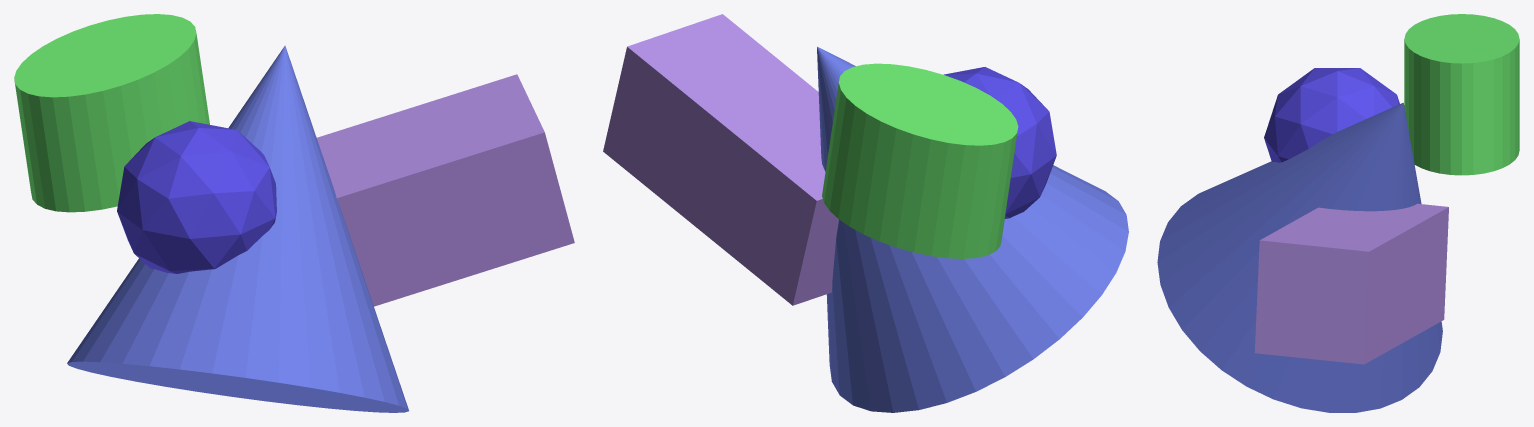
File: gradient-shapes.glb
3 views of the same model, side by side, from view 1: azimuth 30°, elevation 25°; view 2: azimuth 150°, elevation 25°; view 3: azimuth 270°, elevation 25° (orthographic). The views are drawn at different scales.
Parts seen in each view (by area): view 1: Cone, Cube, Cylinder, Icosphere; view 2: Cone, Cube, Cylinder, Icosphere; view 3: Cone, Cube, Cylinder, Icosphere.
Boxes of the visible parts, x1,y1,x2,y2 form: Cone: (67,45,408,412); Cube: (317,74,574,306); Cylinder: (14,14,209,212); Icosphere: (117,121,276,273); Cone: (817,46,1128,412); Cube: (603,14,838,305); Cylinder: (822,63,1018,258); Icosphere: (944,67,1056,218); Cone: (1157,102,1442,412); Cube: (1254,203,1448,364); Cylinder: (1404,14,1519,175); Icosphere: (1264,68,1399,162).
Size of the model in its own units: 8.55 by 6.13 by 6.29.
